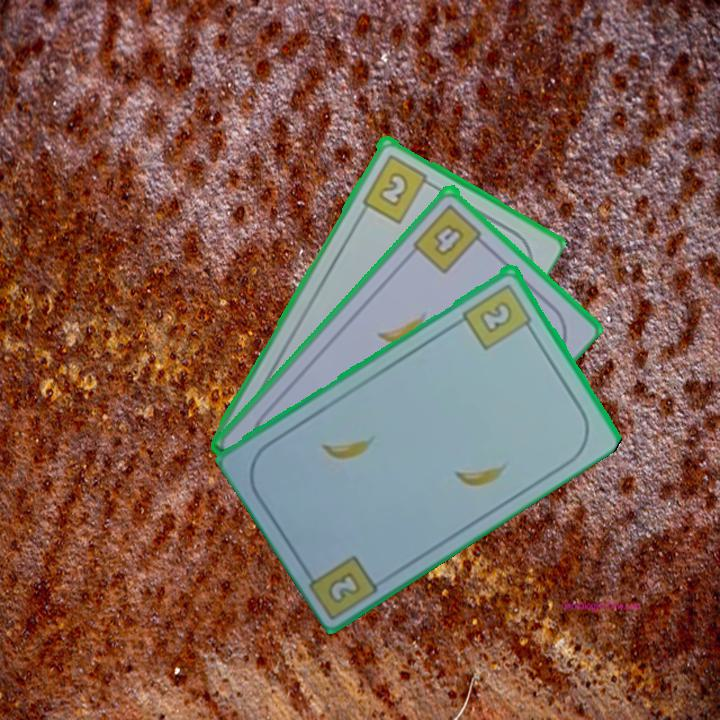2b: (358, 150, 437, 226), (459, 279, 537, 352), (327, 571, 361, 603)
4b: (409, 200, 490, 276)
